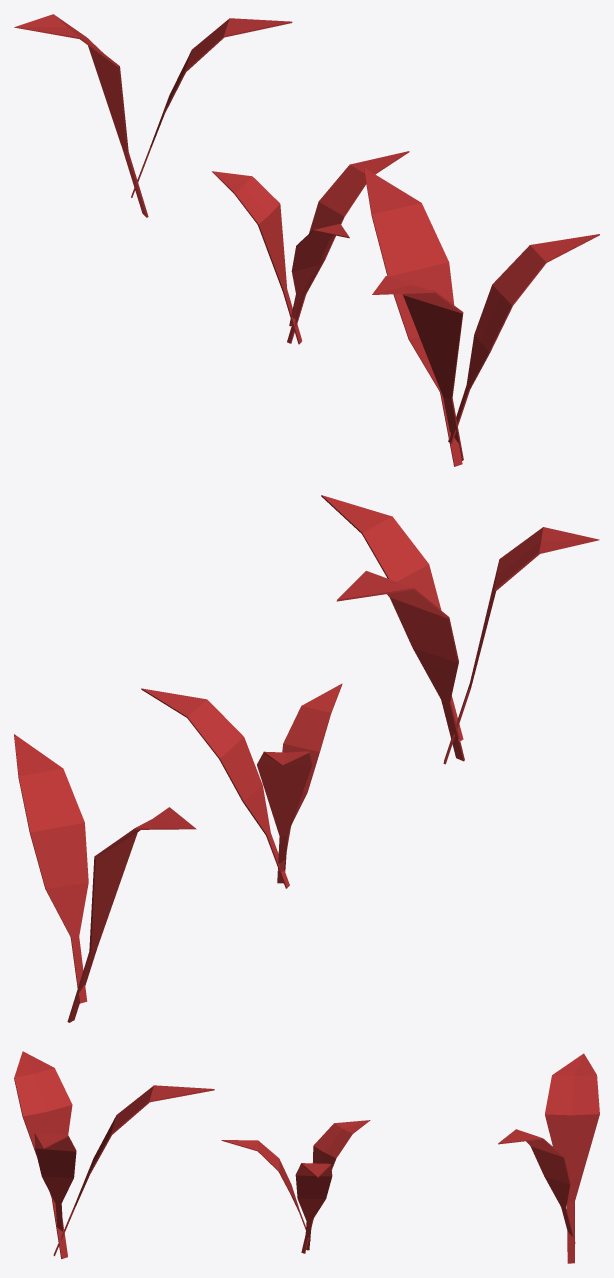
The model's file is Backyard_Flowers.fbx.
The picture shows the model from 3 angles, top to bottom: view 1: azimuth 30°, elevation 25°; view 2: azimuth 150°, elevation 25°; view 3: azimuth 270°, elevation 25°; orthographic projection. The views are drawn at different scales.
Parts seen in each view (by area): view 1: Backyard_Flowers; view 2: Backyard_Flowers; view 3: Backyard_Flowers.
Boxes of the visible parts, bbox=[...] form: Backyard_Flowers: bbox=[14, 14, 599, 466]; Backyard_Flowers: bbox=[14, 495, 599, 1022]; Backyard_Flowers: bbox=[14, 1051, 599, 1263].
Size of the model in its own units: 47.09 by 41.06 by 128.
